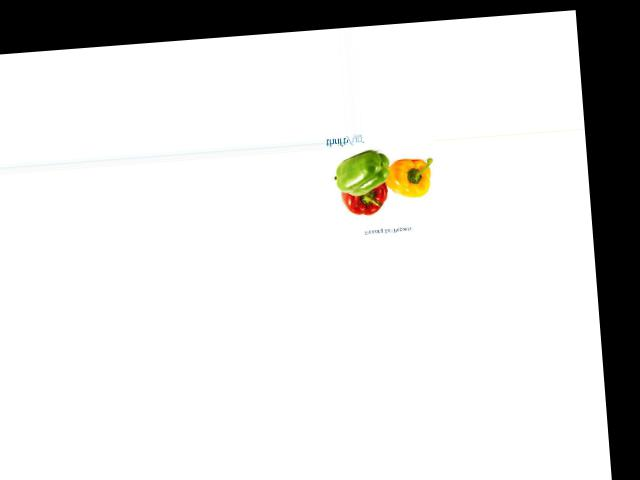bell_pepper: (331, 144, 395, 196)
